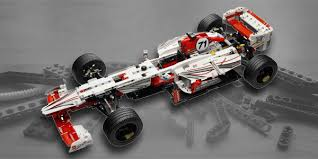f1_car: (38, 3, 283, 159)
